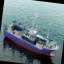fishing boat: (0, 3, 63, 58)
